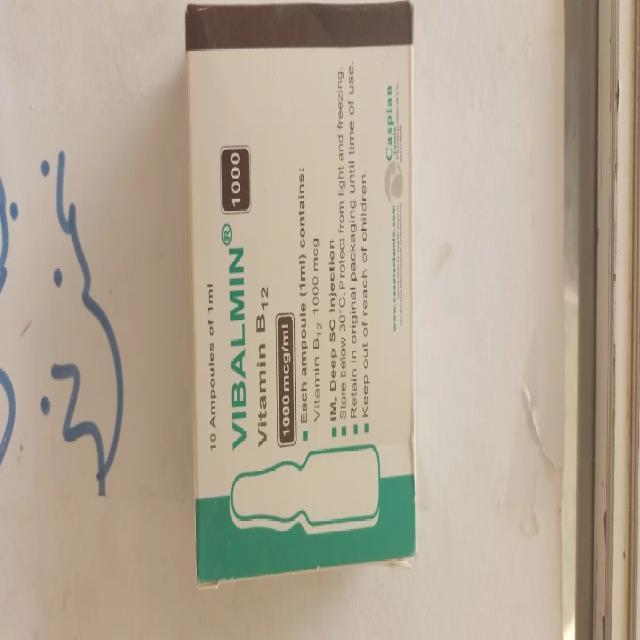drug-name: (223, 244, 250, 453)
